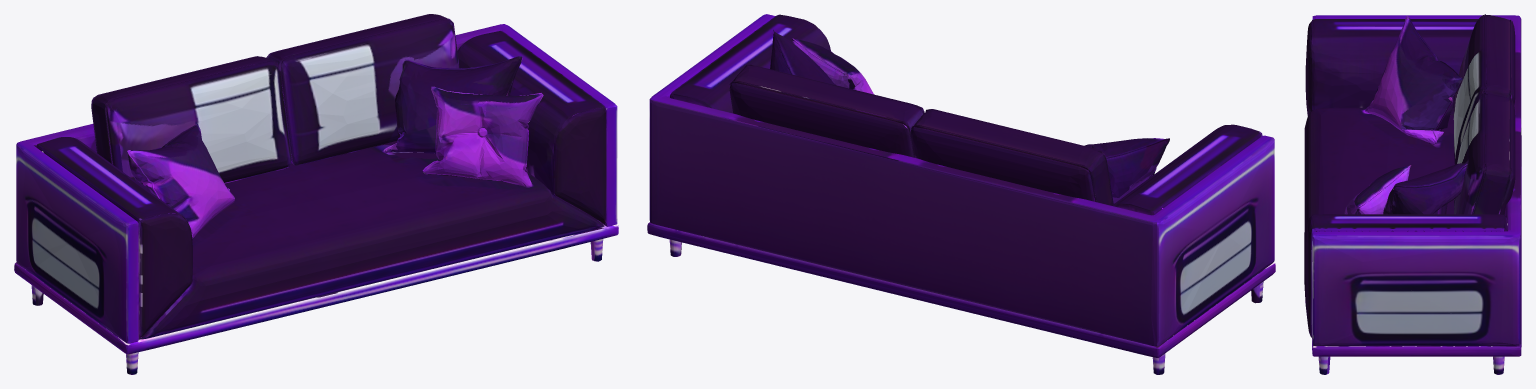
Rendered from edited_mesh.glb.
3 views of the same model, side by side, from view 1: azimuth 30°, elevation 25°; view 2: azimuth 150°, elevation 25°; view 3: azimuth 270°, elevation 25° (orthographic). The views are drawn at different scales.
Parts seen in each view (by area): view 1: solid_001_wire; view 2: solid_001_wire; view 3: solid_001_wire.
Boxes of the visible parts, left/top/right/bottom form: solid_001_wire: left=14, top=14, right=618, bottom=374; solid_001_wire: left=647, top=14, right=1275, bottom=374; solid_001_wire: left=1304, top=14, right=1521, bottom=374.
Size of the model in its own units: 2 by 0.7464 by 0.8192.
Materials: 1 (1 with a texture image).
